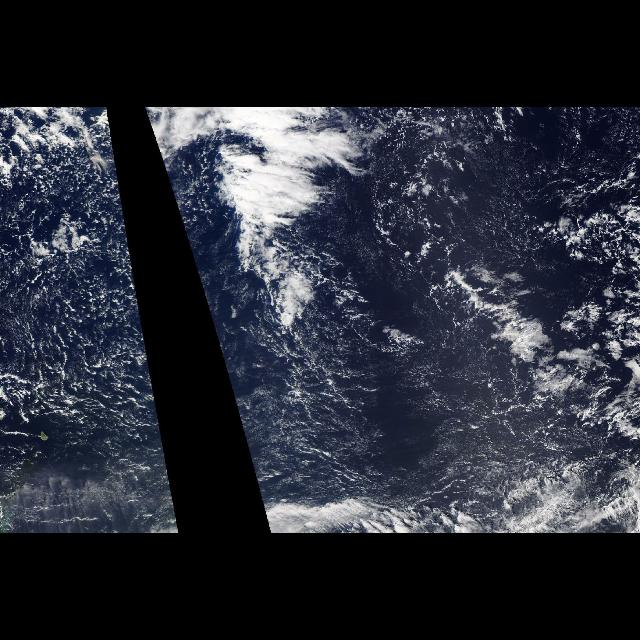Fish: (168, 121, 390, 416), (420, 245, 574, 407)
Gravel: (374, 114, 634, 362), (2, 172, 162, 450)
Sugar: (248, 385, 620, 499)
